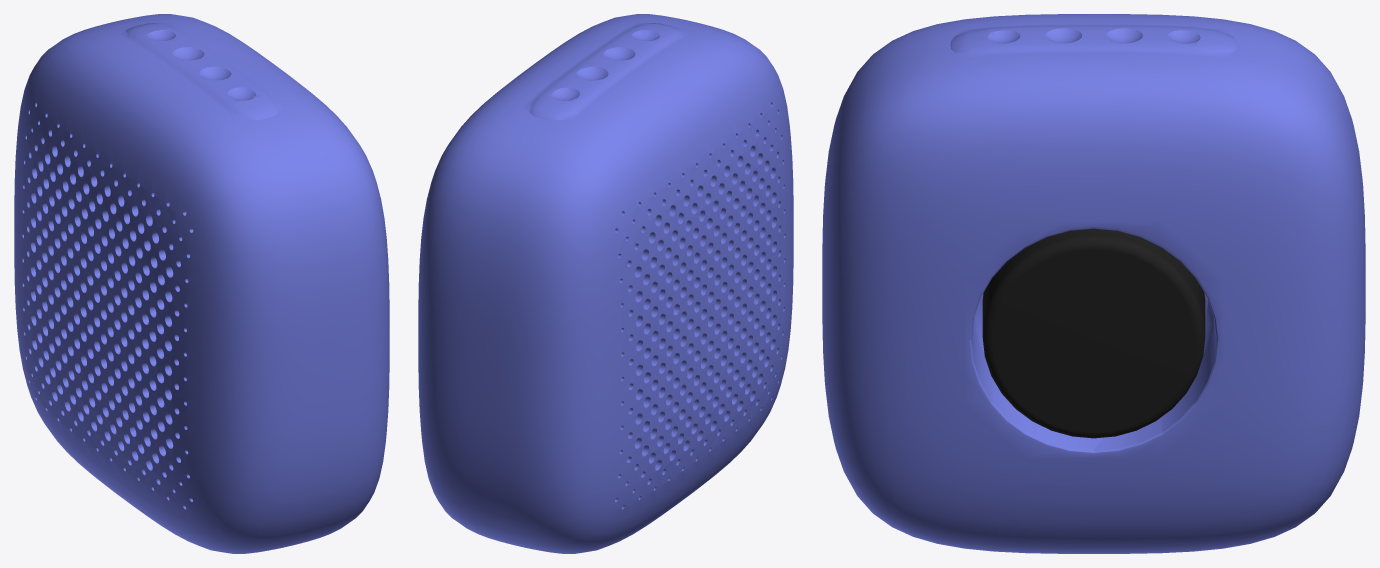
The model's file is speaker10.glb.
The picture shows the model from 3 angles, left to right: view 1: azimuth 30°, elevation 25°; view 2: azimuth 150°, elevation 25°; view 3: azimuth 270°, elevation 25°; orthographic projection. The views are drawn at different scales.
Visible parts, largest first — view 1: Cube; view 2: Cube; view 3: Cube, Cylinder.001.
Boxes of the visible parts, <box> form: Cube: <box>14,14,389,553</box>; Cube: <box>418,14,793,553</box>; Cube: <box>822,14,1365,553</box>; Cylinder.001: <box>982,228,1205,438</box>.
Bounding box in the file's own units: 0.05 × 0.1005 × 0.1.
